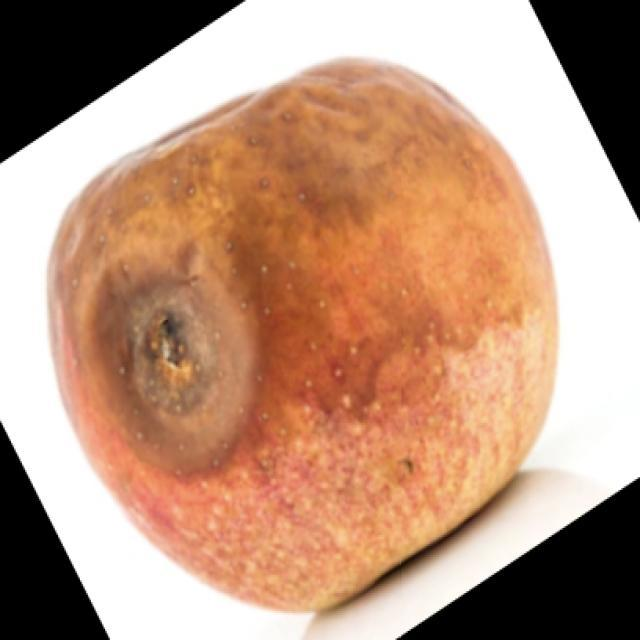Rotten: (57, 70, 553, 592)
